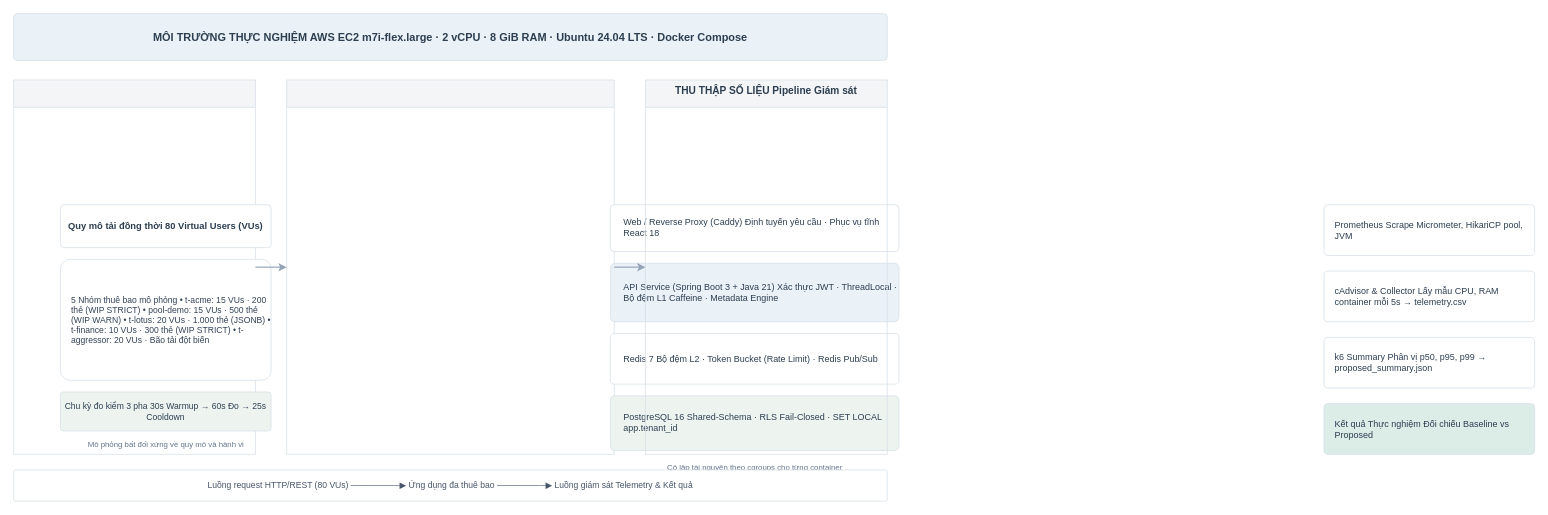
The diagram is 1548 pixels wide and 515 high, and some of its shapes have lost their labels. Here are the shapes that lost their labels. From the top down, the box of each, then its label:
(13, 79, 255, 454): BỘ SINH TẢI k6 v0.50
(286, 79, 614, 454): ỨNG DỤNG ĐA THUÊ BAO Docker Compose Cluster
